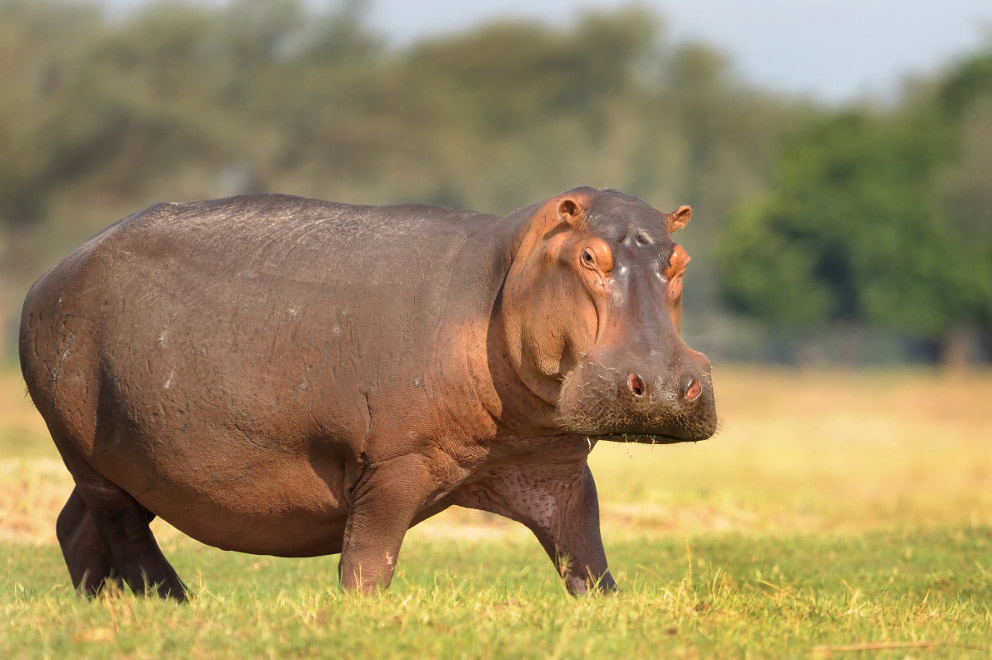Hippopotamus: (22, 188, 721, 600)
